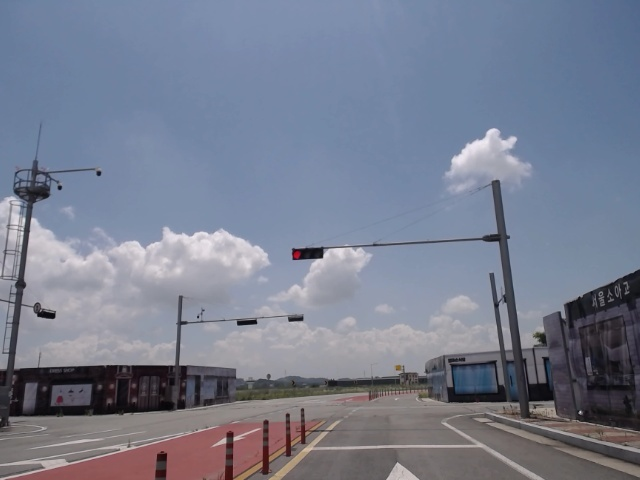red_3: (290, 249, 326, 260)
